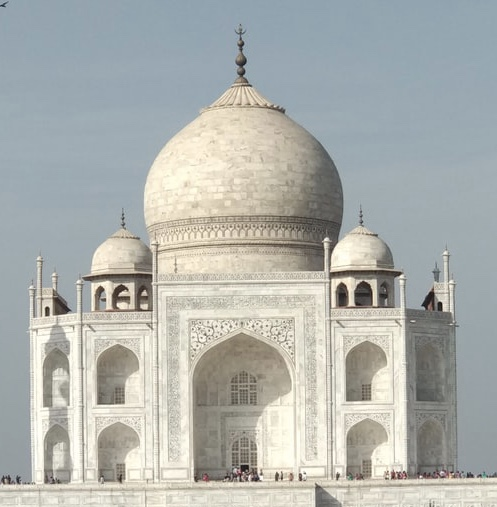Mosque: (10, 24, 484, 483)
